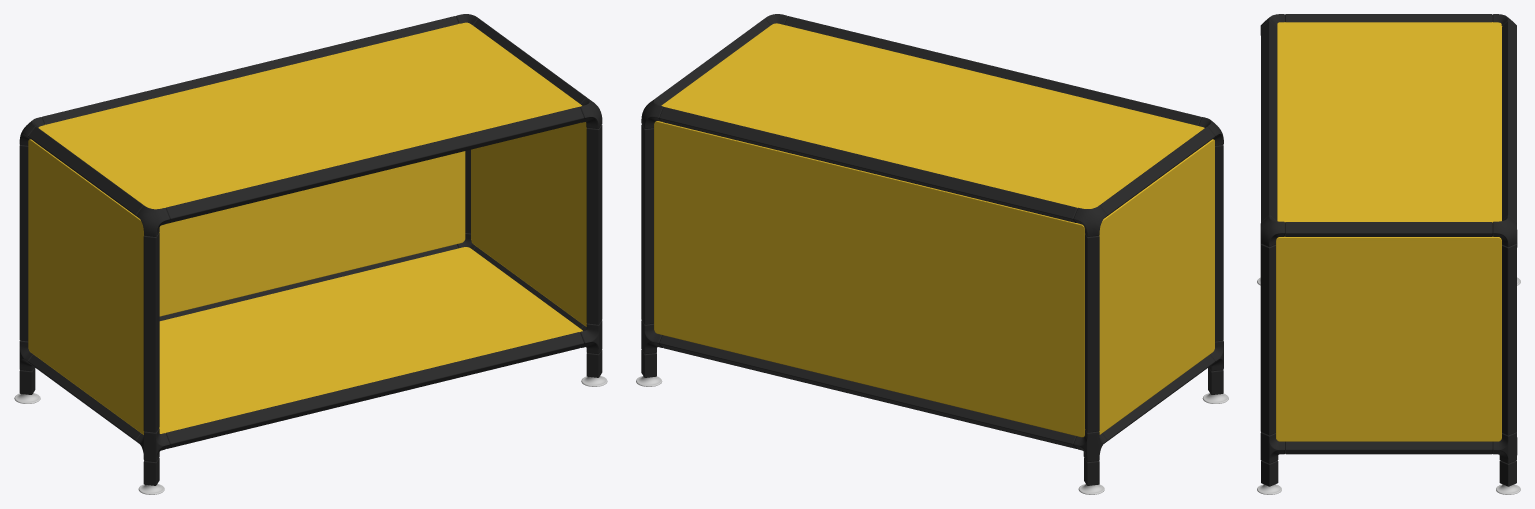
3 renders of one model, left to right at view 1: azimuth 30°, elevation 25°; view 2: azimuth 150°, elevation 25°; view 3: azimuth 270°, elevation 25°, orthographic. The views are drawn at different scales.
Parts seen in each view (by area): view 1: 729x329x329; view 2: 729x329x329; view 3: 729x329x329.
Part boxes in pixels (x1,y1,x2,y2): 729x329x329: (14,14,607,494); 729x329x329: (636,14,1228,494); 729x329x329: (1257,14,1520,494).
Size of the model in its own units: 0.8189 by 0.4683 by 0.4182.
